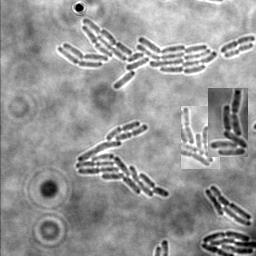Dividing: (219, 34, 255, 52), (223, 41, 253, 57)
Microcolony: (57, 18, 216, 89), (75, 120, 169, 197), (208, 88, 248, 157), (181, 106, 220, 169), (204, 184, 251, 226), (200, 230, 255, 255)
